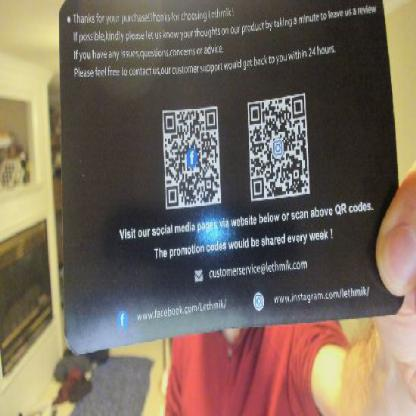qr: (158, 105, 227, 212), (246, 98, 316, 198)
